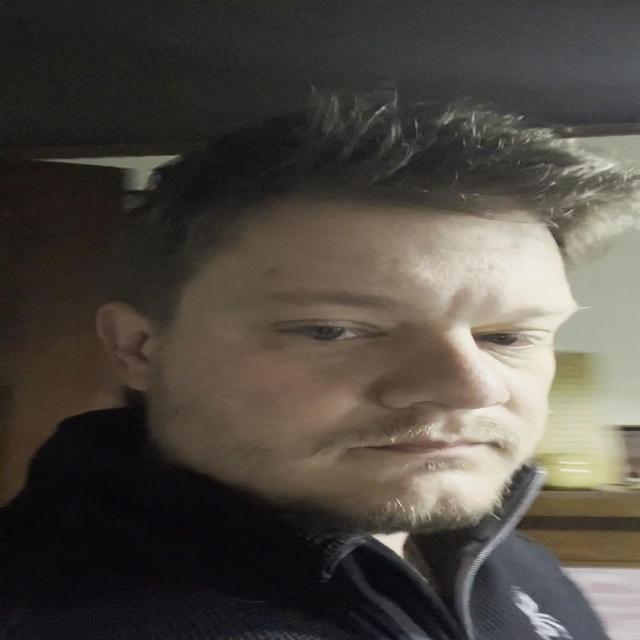no-helmet: (118, 184, 582, 555)
